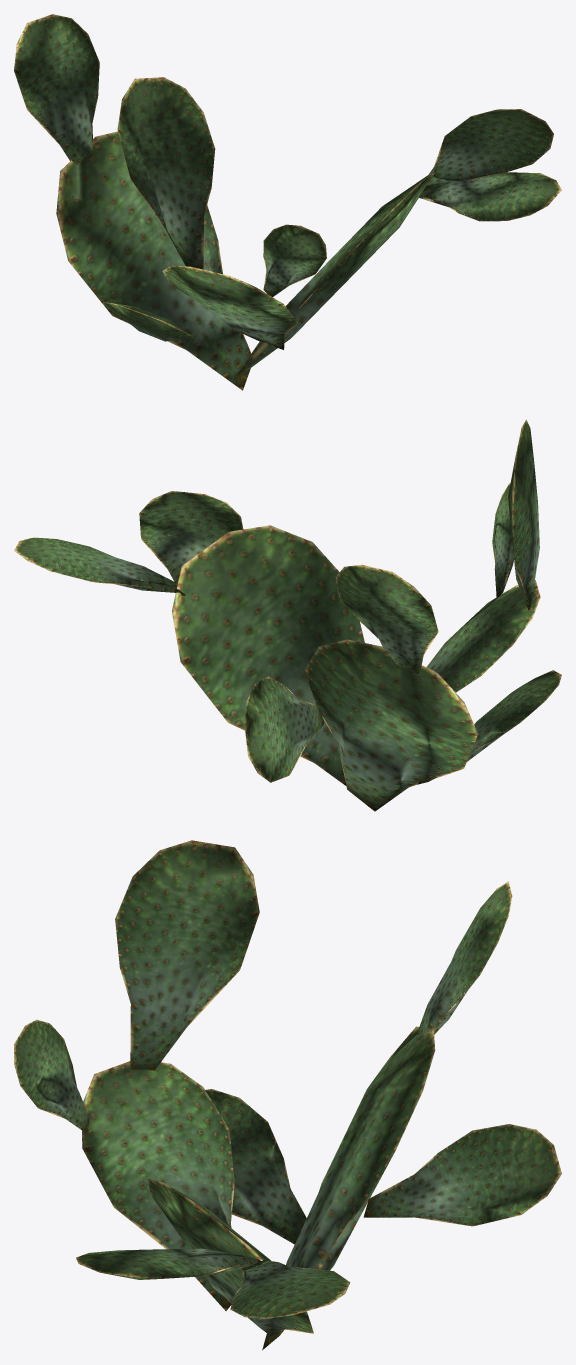
The model's file is CactusB.glb.
3 views of the same model, one above another, from view 1: azimuth 30°, elevation 25°; view 2: azimuth 150°, elevation 25°; view 3: azimuth 270°, elevation 25° (orthographic). The views are drawn at different scales.
Parts seen in each view (by area): view 1: cactus_02; view 2: cactus_02; view 3: cactus_02.
Boxes of the visible parts, box(x1,y1,x2,y2) form: cactus_02: box(14, 14, 561, 390); cactus_02: box(14, 419, 561, 811); cactus_02: box(14, 840, 561, 1350).
Bounding box in the file's own units: 31.45 × 23.27 × 25.94.
Materials: 1 (1 with a texture image).
